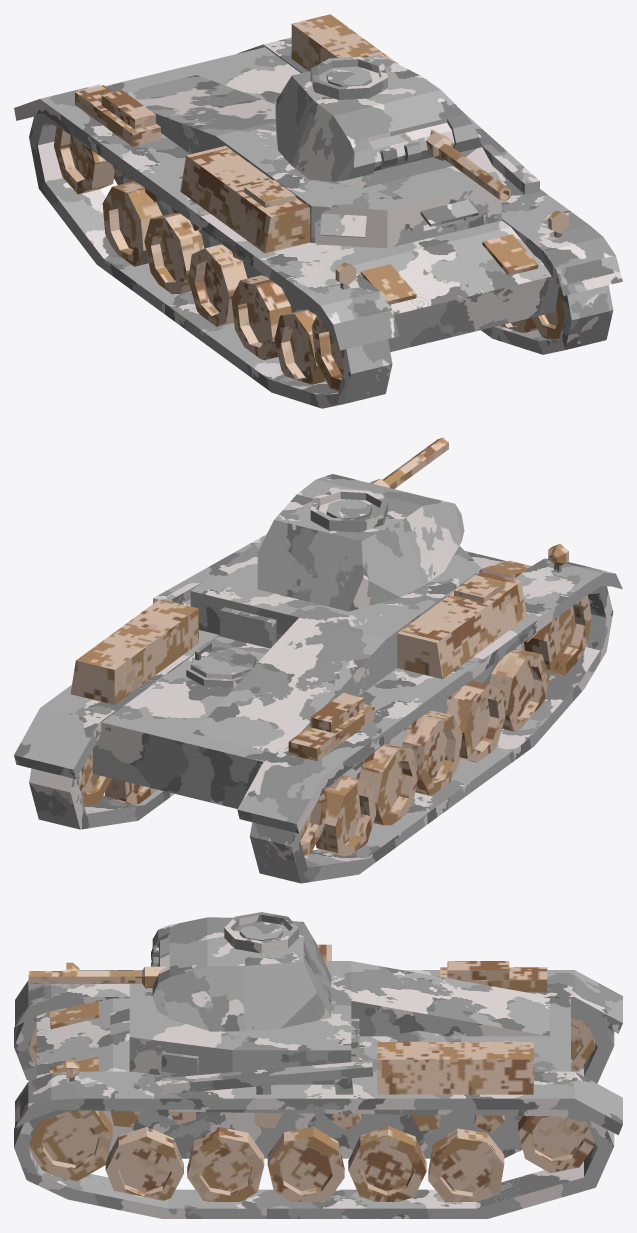
The picture shows the model from 3 angles, top to bottom: view 1: azimuth 30°, elevation 25°; view 2: azimuth 150°, elevation 25°; view 3: azimuth 270°, elevation 25°; orthographic projection. The views are drawn at different scales.
Parts seen in each view (by area): view 1: 중형; view 2: 중형; view 3: 중형.
Part boxes in pixels (x1=…): 중형: x1=14, y1=14, x2=622, y2=408; 중형: x1=14, y1=437, x2=622, y2=883; 중형: x1=14, y1=912, x2=622, y2=1218.
Size of the model in its own units: 385 by 323 by 771.
